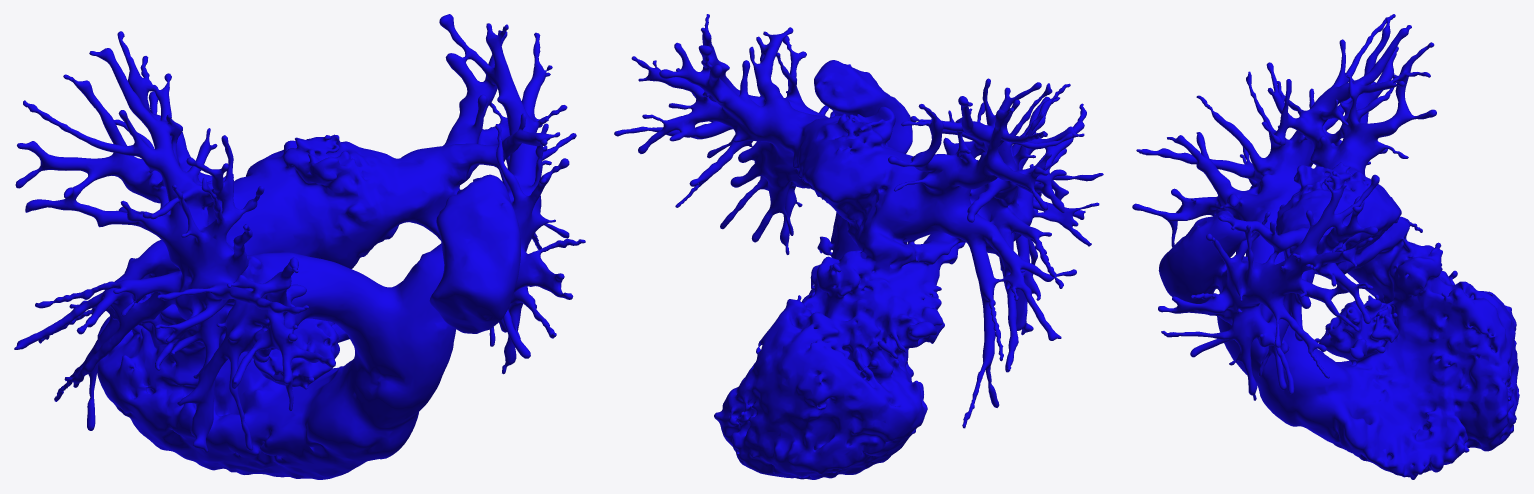
The picture shows the model from 3 angles, left to right: view 1: azimuth 30°, elevation 25°; view 2: azimuth 150°, elevation 25°; view 3: azimuth 270°, elevation 25°; orthographic projection. The views are drawn at different scales.
Parts seen in each view (by area): view 1: PA; view 2: PA; view 3: PA.
Boxes of the visible parts, x1,y1,x2,y2 form: PA: [14, 14, 585, 479]; PA: [614, 14, 1103, 479]; PA: [1132, 14, 1519, 479].
Size of the model in its own units: 192 by 156 by 151.
